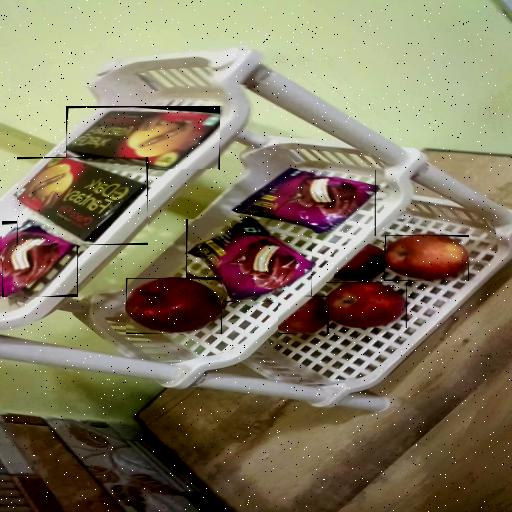Apple: (126, 278, 222, 334), (385, 235, 469, 281), (326, 282, 407, 328), (278, 296, 329, 334), (334, 245, 385, 281)
Choco Fills: (17, 157, 148, 245), (66, 106, 220, 169)
Choco Pie: (186, 220, 312, 304), (231, 170, 376, 236), (2, 221, 78, 297)
